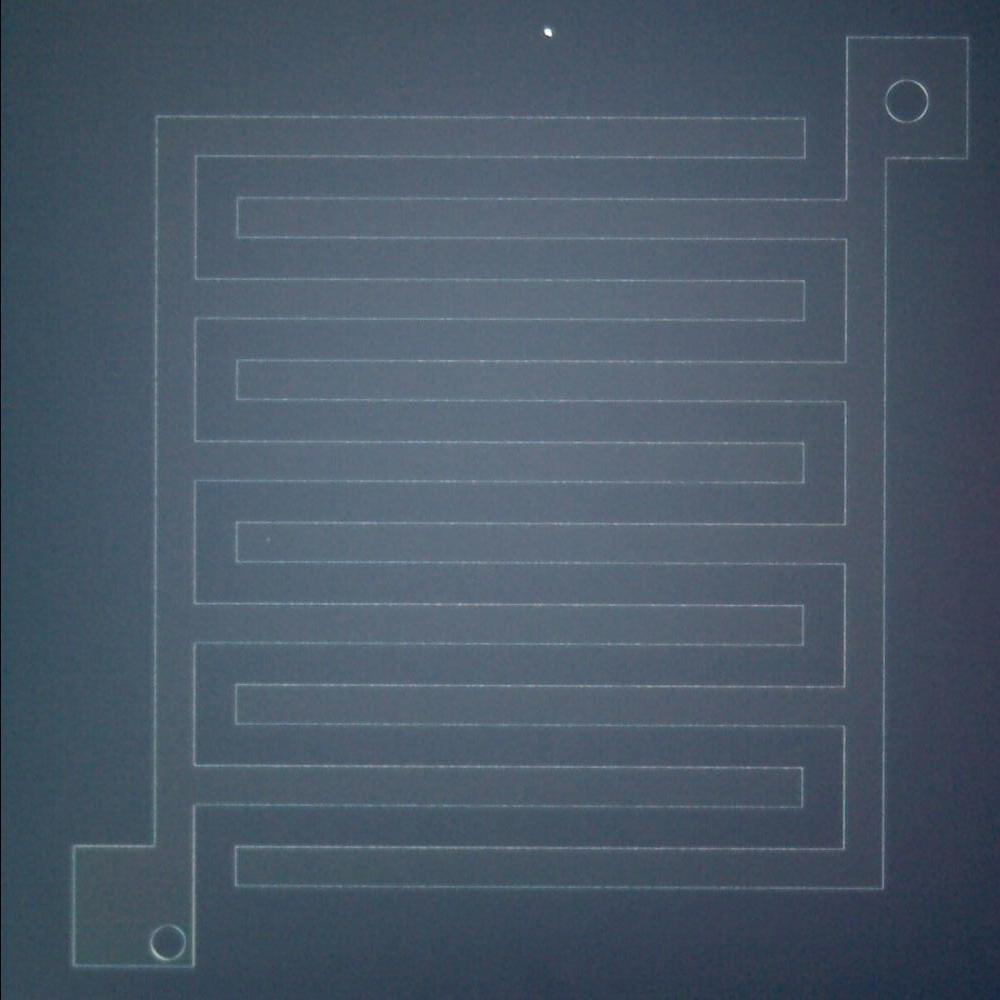circle: (883, 72, 934, 132), (140, 916, 190, 971)
spot: (535, 22, 558, 46)
